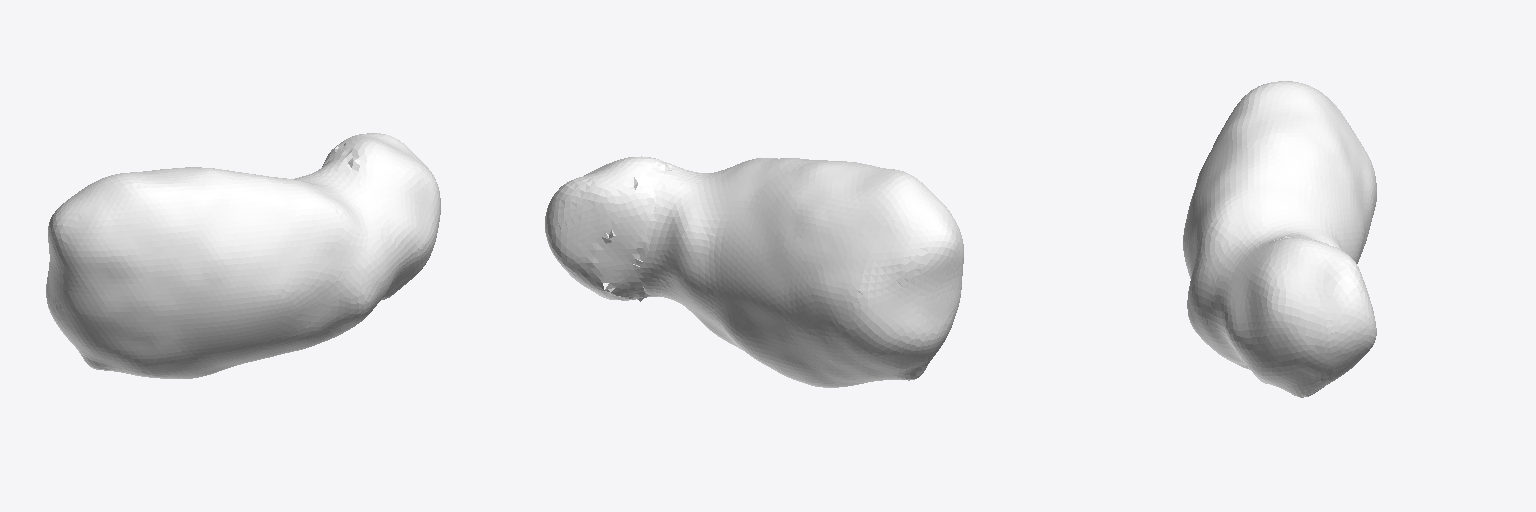
Rendered from ItokawaCrust03.obj.
The picture shows the model from 3 angles: view 1: azimuth 30°, elevation 25°; view 2: azimuth 150°, elevation 25°; view 3: azimuth 270°, elevation 25°; orthographic projection.
Bounding box in the file's own units: 1.87 × 0.9995 × 0.8065.